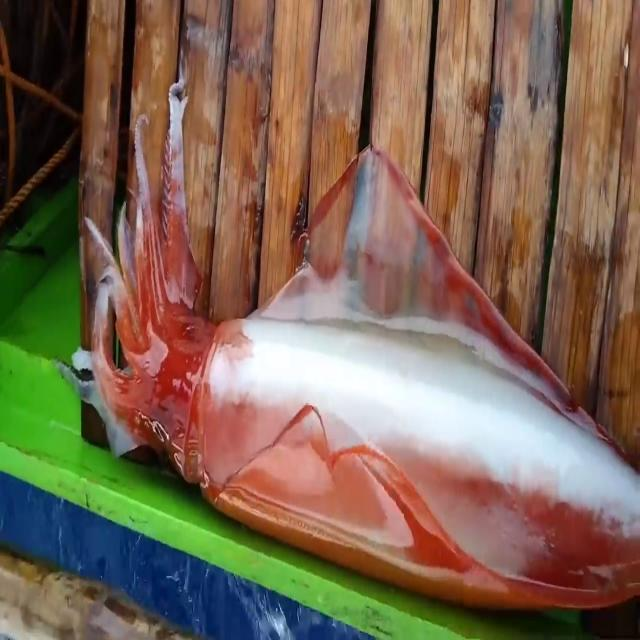SQUID: (46, 95, 640, 640)
